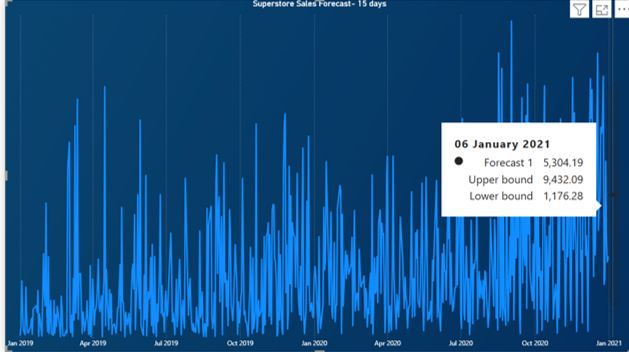

Layout of this report page (visuals, bound fields, positions):
{"tool":"powerbi","page":{"name":"Page 2","canvas":[1280,720],"ordinal":1},"visuals":[{"type":"lineChart","title":"Superstore Sales Forecast- 15 days","fields":{"Y":["Sum(SuperStore_Sales_Dataset.Sales)"],"Category":["SuperStore_Sales_Dataset.Order Date"]},"box":[0,0,1280,720],"z":0}]}

Visuals, with their boxes in screenshot pixels (x1, y1, x2, y2), scaled from the page's 1280x720 canvas onto the 629x352 screenshot:
"Superstore Sales Forecast- 15 days" lineChart: (0, 0, 628, 351)
